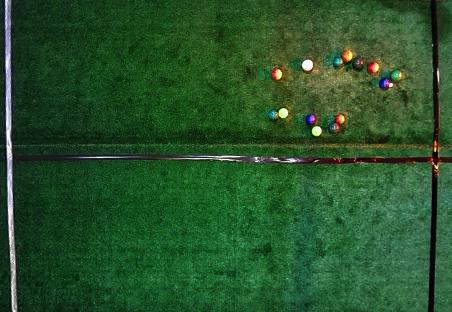blue: (379, 78, 390, 89), (305, 114, 316, 124)
green: (353, 57, 364, 70), (391, 70, 402, 82), (329, 123, 340, 134), (268, 110, 278, 120), (333, 57, 343, 67)
red: (367, 61, 379, 74), (271, 68, 283, 80), (301, 59, 313, 71), (341, 50, 353, 62), (334, 114, 345, 125)
vline: (427, 1, 452, 311), (0, 1, 21, 311)
white: (389, 83, 393, 87)
yellow: (278, 108, 288, 118), (312, 126, 322, 136)
